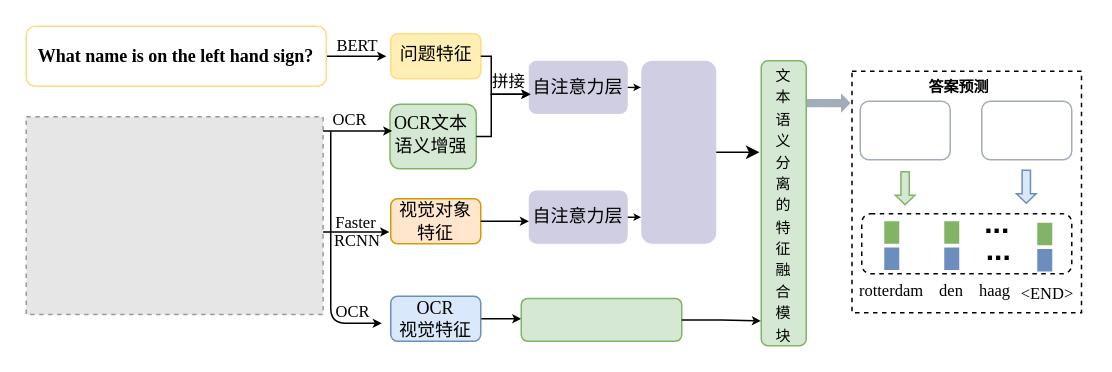
This 1112x372 diagram has some shape labels left out. Grey dashed boxes stand in for pictures. The shapes that lost their labels are listed below. From the top down, each one's box as (x1, y1, x2, y2) in pixels, then its label:
(859, 100, 950, 160): 词汇表单词分类器
(980, 100, 1072, 160): OCR单词 分类器
(640, 60, 716, 243): 引导的注意力层
(520, 297, 682, 341): 位置感知的 自注意力层
